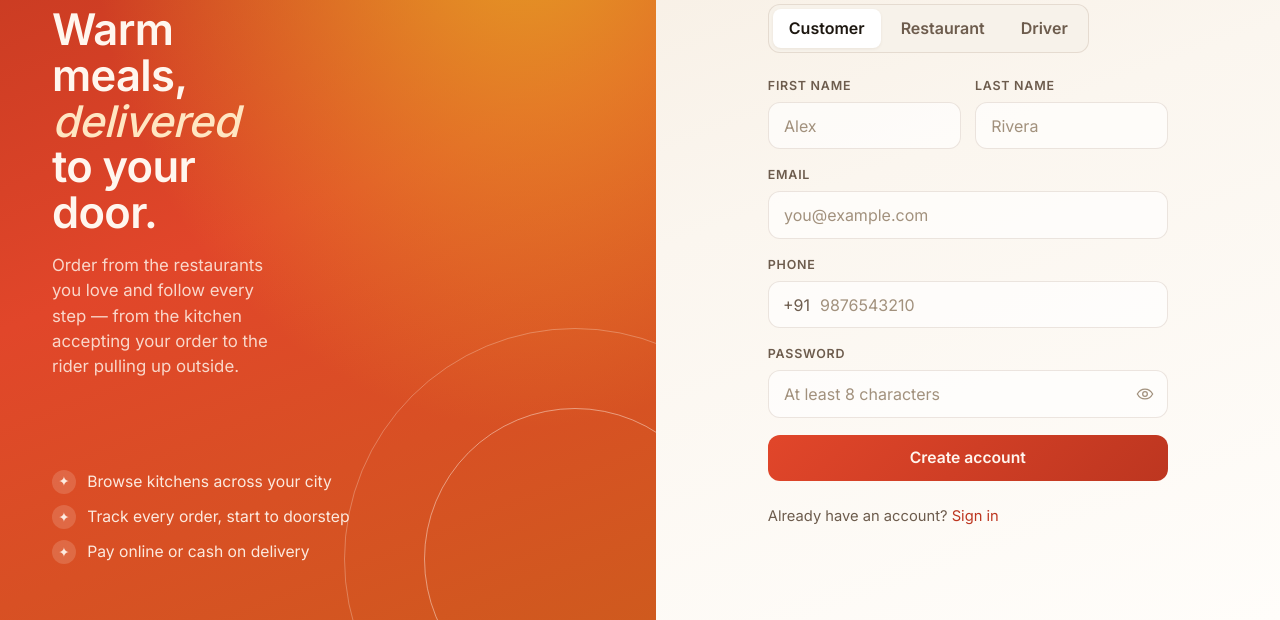
Test: registering a restaurant › asks for them on the restaurant tab
Click the button "Restaurant" at (943, 28), box [885,9,1001,48]
(page scrolled)
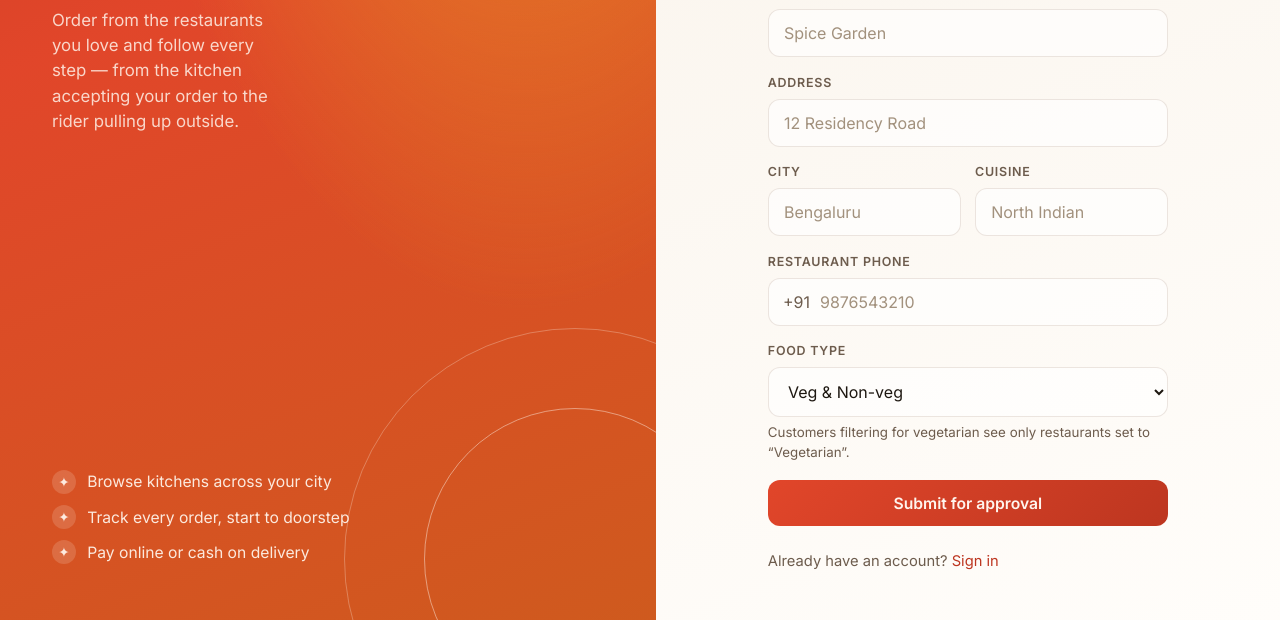
Now the field labelled "Restaurant name" is shown, box [768,9,1168,57]
Now the dropdown labelled "Food type" is shown, box [768,367,1168,417]
